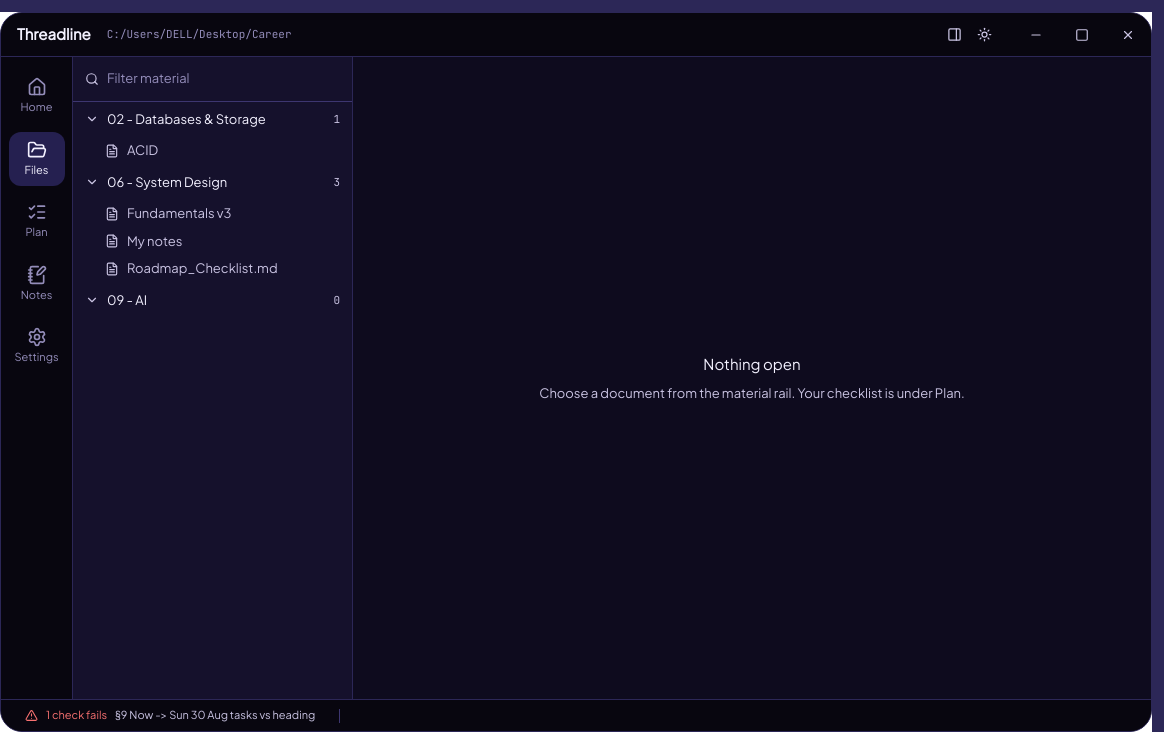
Test: the workbench › shows the checklist once the plan loads
Expected: the button "06 - System Design 3" is shown, [73,164,352,200]
Click the button "Plan": (36, 221) [8,194,64,248]
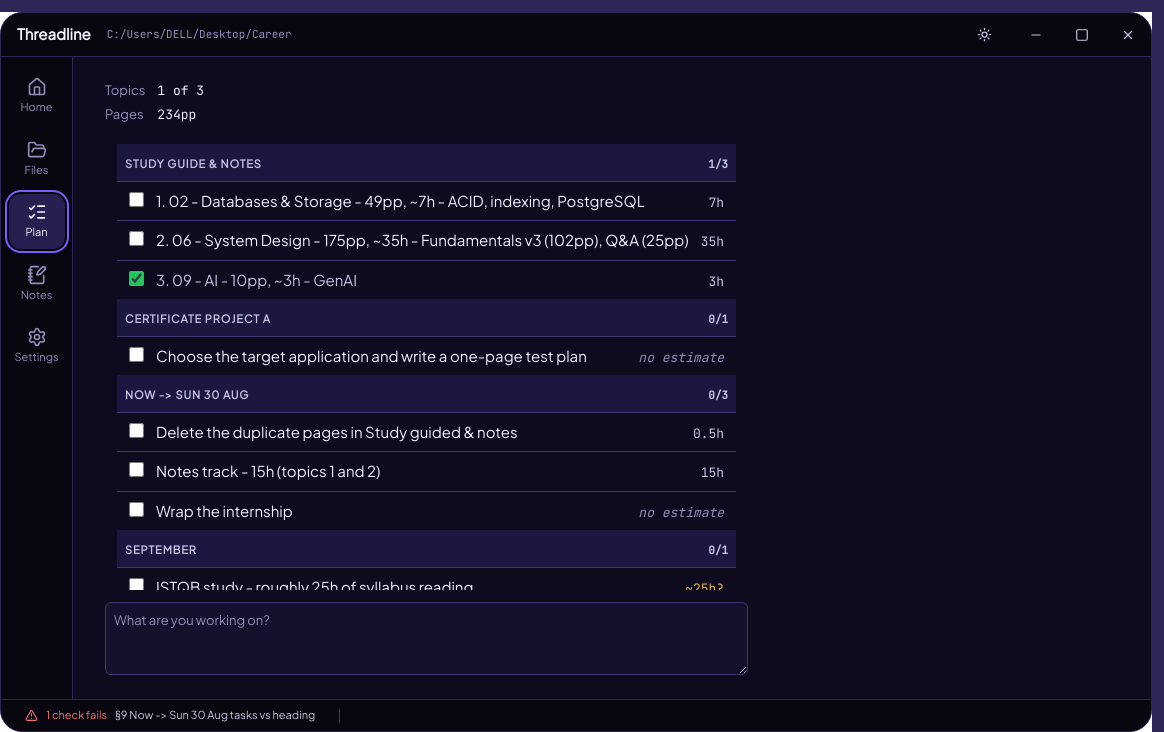
Expected: the text "Notes track - 15h (topics 1 and 2)" is shown, [156,461,380,480]
Expected: the 1st checkbox is shown, [129,192,144,206]
